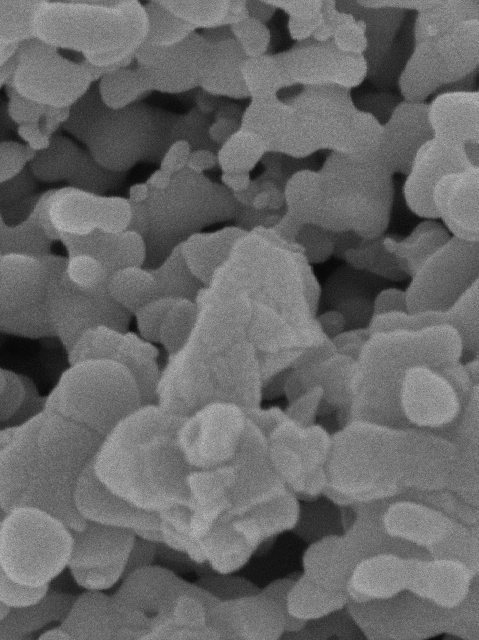nano: (397, 365, 463, 432), (64, 252, 106, 288)
